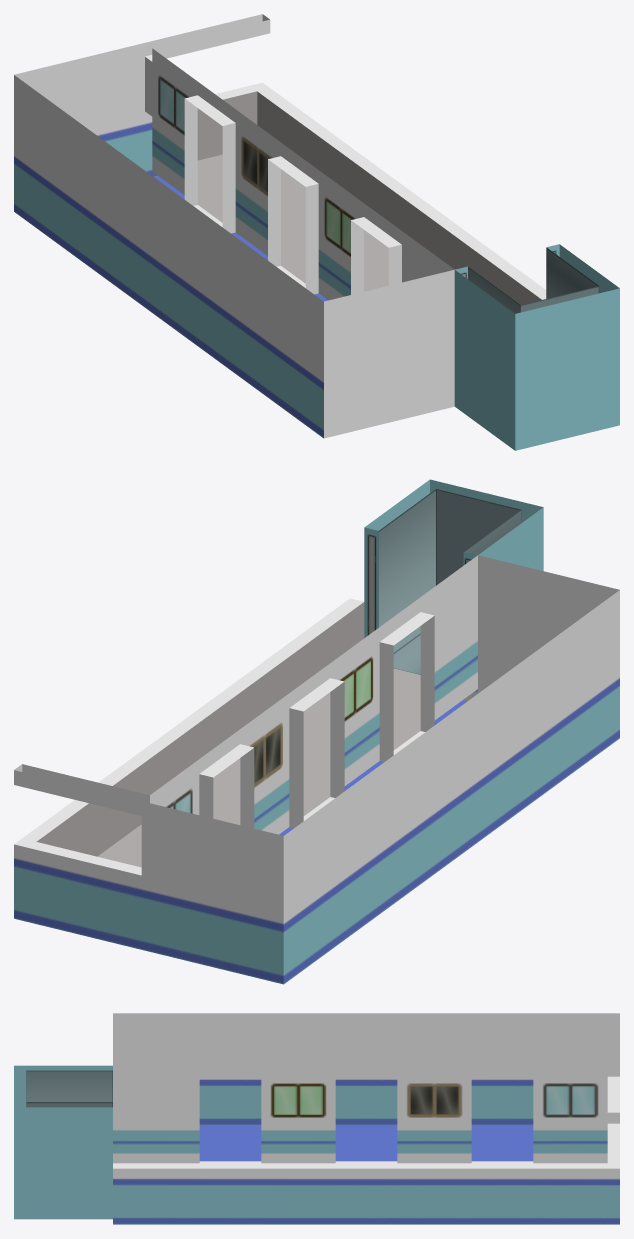
Rendered from Level.fbx.
3 renders of one model, top to bottom at view 1: azimuth 30°, elevation 25°; view 2: azimuth 150°, elevation 25°; view 3: azimuth 270°, elevation 25°, orthographic. The views are drawn at different scales.
Parts seen in each view (by area): view 1: Mesh; view 2: Mesh; view 3: Mesh.
Boxes of the visible parts, box(x1,y1,x2,y2) form: Mesh: box(14, 14, 619, 450); Mesh: box(14, 479, 619, 984); Mesh: box(14, 1013, 619, 1224).
Size of the model in its own units: 19 by 10 by 49.
1 material, 1 textured.
